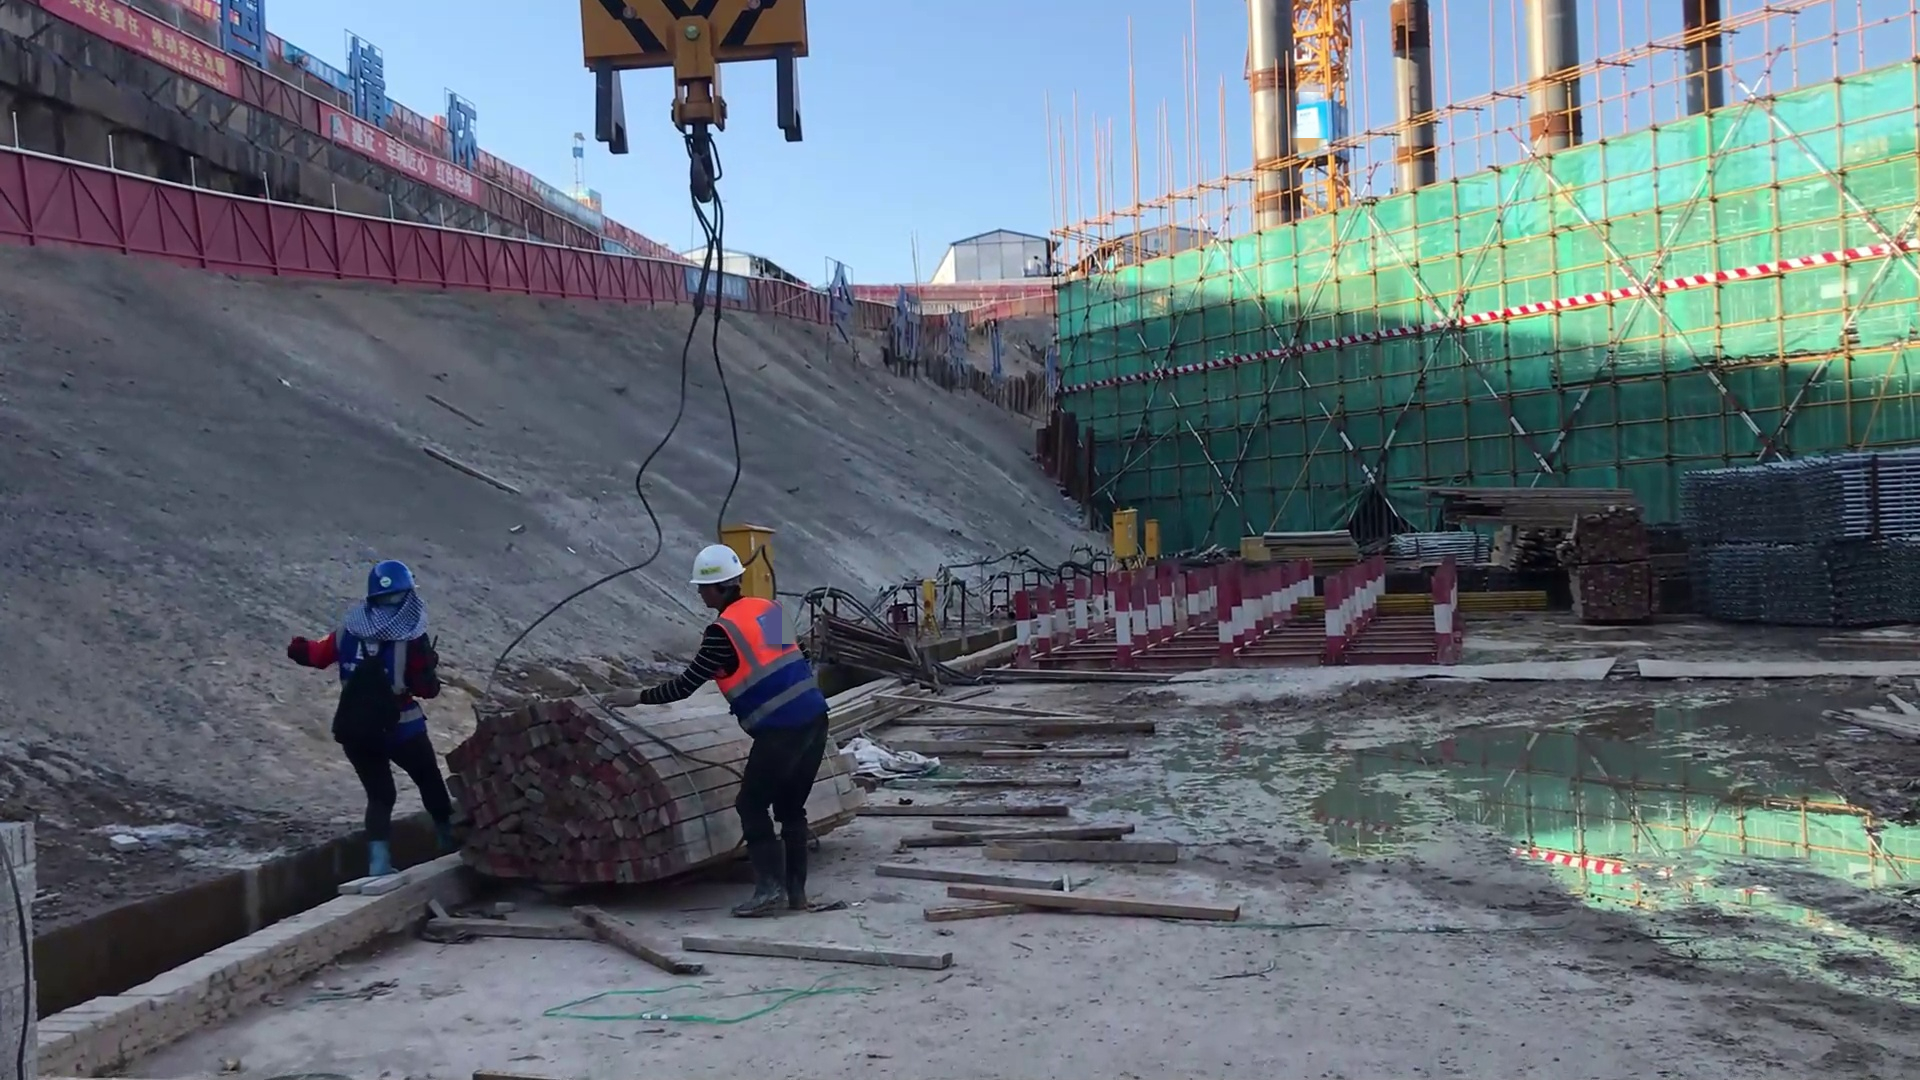ebox: (1104, 503, 1138, 554), (1142, 521, 1161, 559)
fence: (1, 149, 400, 299), (388, 227, 682, 304)
helmet: (675, 534, 743, 591), (347, 553, 407, 606)
hook: (570, 1, 821, 161)
person: (607, 544, 826, 913), (291, 554, 465, 874)
scaffold: (1678, 467, 1920, 654)
slogan: (66, 1, 238, 122)
vest: (694, 592, 788, 676)
wood: (901, 622, 1251, 967), (456, 679, 649, 915), (1380, 481, 1673, 552)
